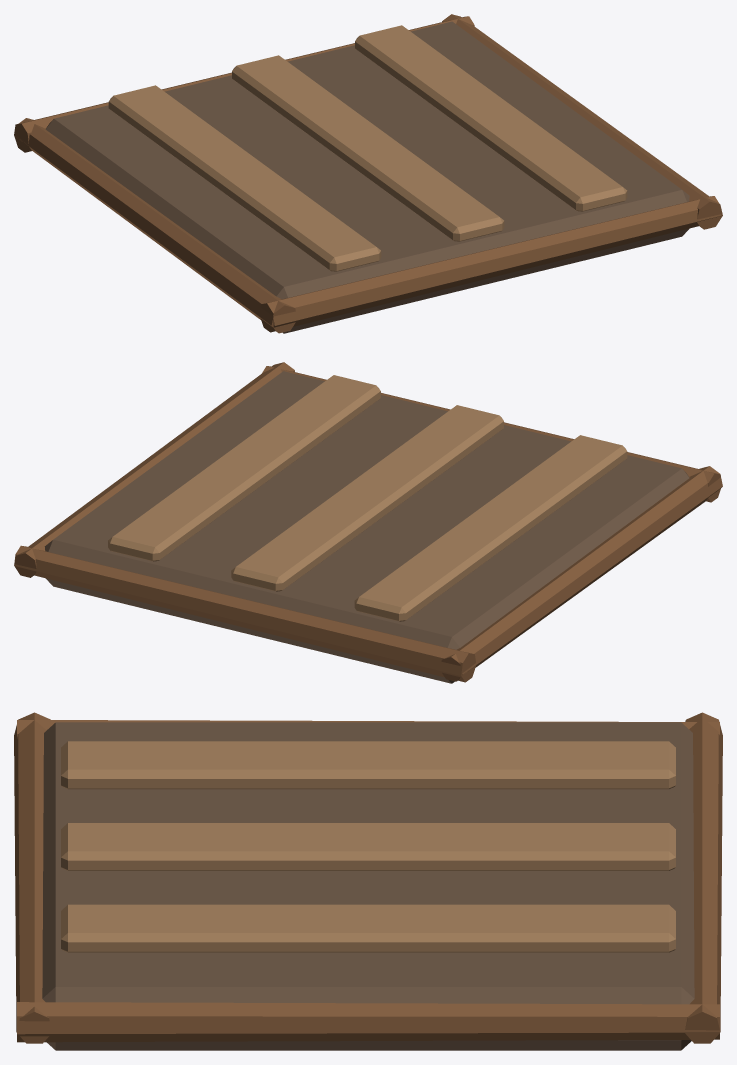
Rendered from CC_FarmTile.fbx.
3 views of the same model, one above another, from view 1: azimuth 30°, elevation 25°; view 2: azimuth 150°, elevation 25°; view 3: azimuth 270°, elevation 25° (orthographic). The views are drawn at different scales.
Visible parts, largest first — view 1: Soil, Furrow, Furrow.002, Furrow.001, Edge.002, Edge, Edge.001, Edge.003; view 2: Soil, Furrow, Furrow.002, Furrow.001, Edge.003, Edge, Edge.001, Edge.002; view 3: Soil, Furrow.002, Furrow, Furrow.001, Edge.001, Edge.003, Edge.002, Edge.
Boxes of the visible parts, x1,y1,x2,y2 form: Soil: (45,21,689,333); Furrow: (108,85,381,271); Furrow.002: (355,25,627,211); Furrow.001: (232,55,504,241); Edge.002: (260,196,721,332); Edge: (15,118,295,333); Edge.001: (442,14,722,229); Edge.003: (14,16,474,152); Soil: (44,371,689,683); Furrow: (354,435,627,621); Furrow.002: (108,375,380,561); Furrow.001: (231,405,503,591); Edge.003: (14,545,475,682); Edge: (441,466,722,681); Edge.001: (14,362,294,577); Edge.002: (262,366,720,502); Soil: (42,722,694,1050); Furrow.002: (61,904,675,952); Furrow: (61,741,675,789); Furrow.001: (61,823,675,870); Edge.001: (17,1002,719,1042); Edge.003: (685,712,722,1043); Edge.002: (14,712,50,1043); Edge: (17,720,719,738).
Bounding box in the file's own units: 2.02 × 0.255 × 2.02.
